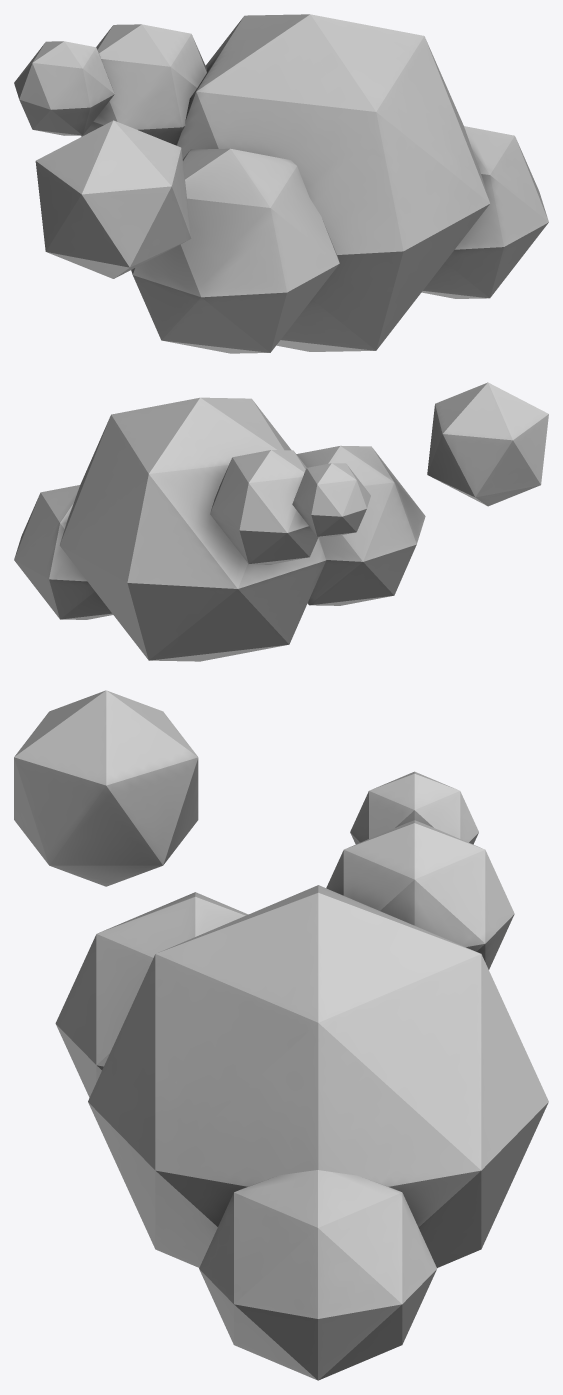
The model's file is Cloud_8.fbx.
3 renders of one model, top to bottom at view 1: azimuth 30°, elevation 25°; view 2: azimuth 150°, elevation 25°; view 3: azimuth 270°, elevation 25°, orthographic. The views are drawn at different scales.
Parts seen in each view (by area): view 1: Cloud_8; view 2: Cloud_8; view 3: Cloud_8.
Boxes of the visible parts, x1,y1,x2,y2 form: Cloud_8: (14, 14, 548, 353); Cloud_8: (14, 382, 548, 661); Cloud_8: (14, 690, 548, 1380).
Bounding box in the file's own units: 80.27 × 48.13 × 51.89.
